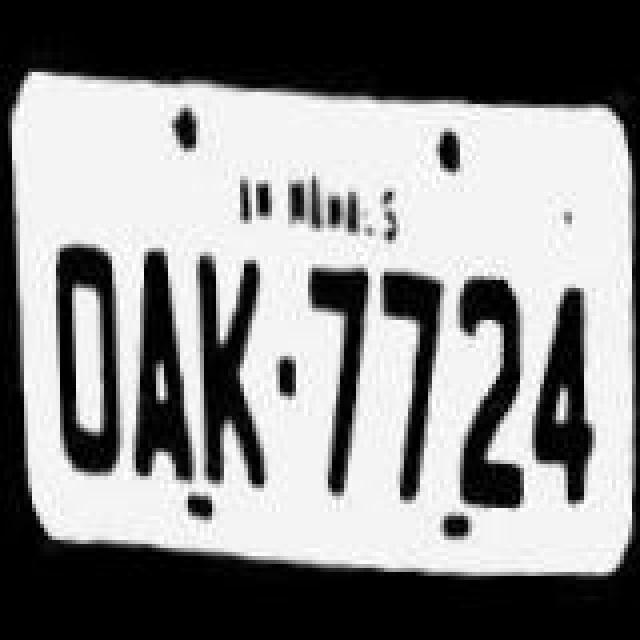2: (448, 260, 532, 508)
4: (524, 276, 608, 516)
7: (298, 254, 378, 502), (370, 254, 450, 502)
A: (122, 226, 202, 490)
K: (182, 238, 270, 494)
O: (36, 218, 124, 478)
